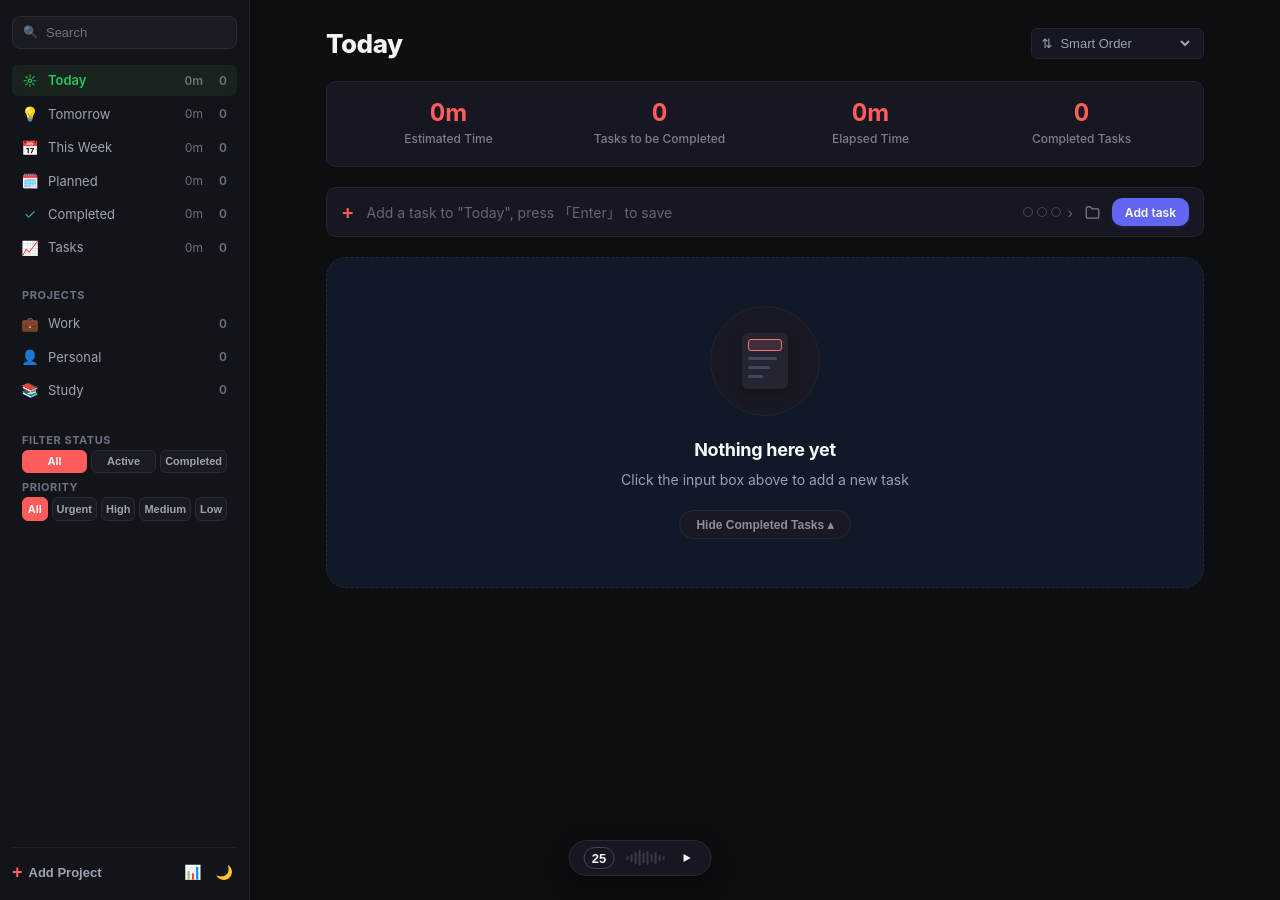
Test: App component integration › saves edited task title
The image size is (1280, 900).
In the field named "title": (689, 212) left=366, top=204, right=1012, bottom=221, type "Original title"
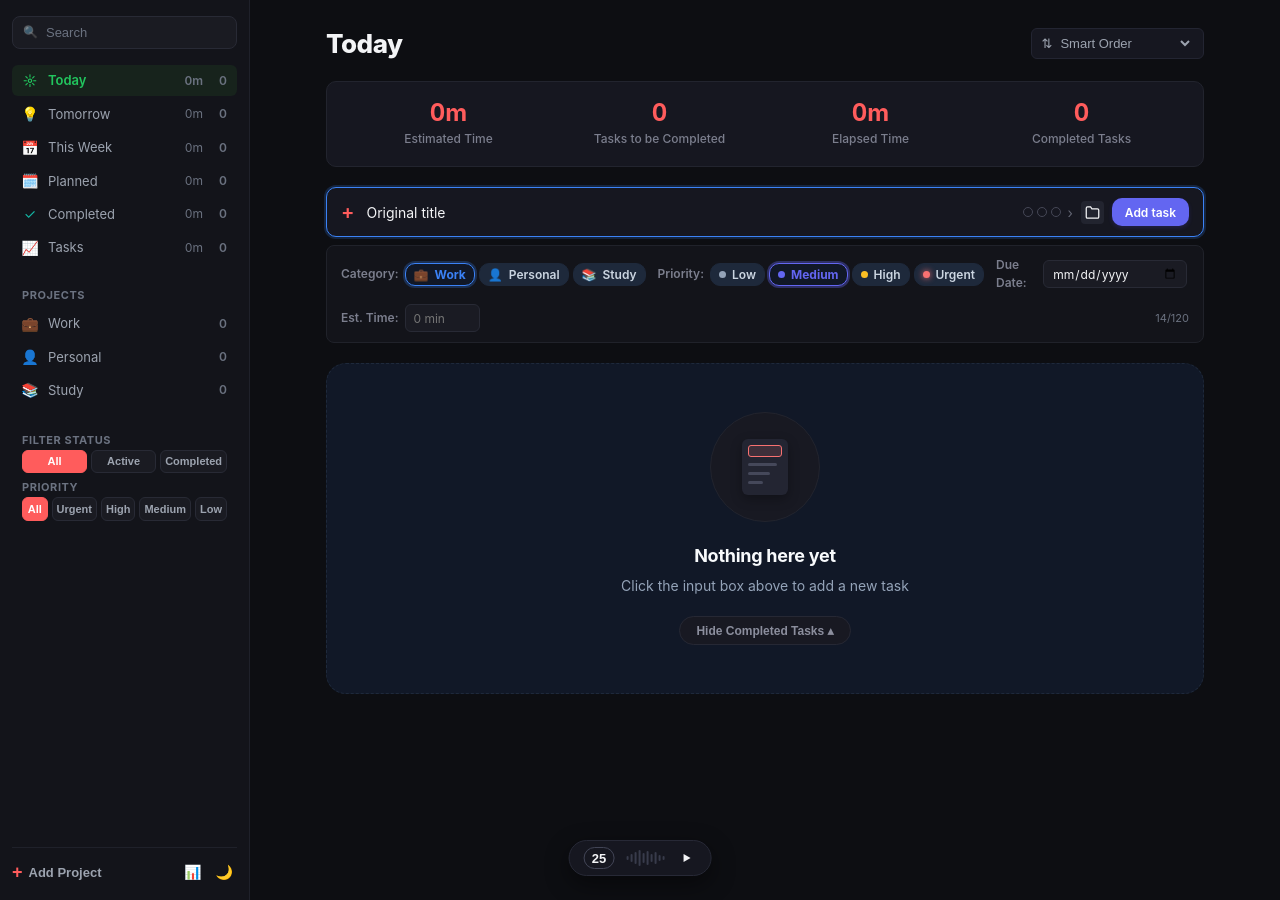
Click the button "Add task": (1150, 212) left=1112, top=198, right=1189, bottom=226
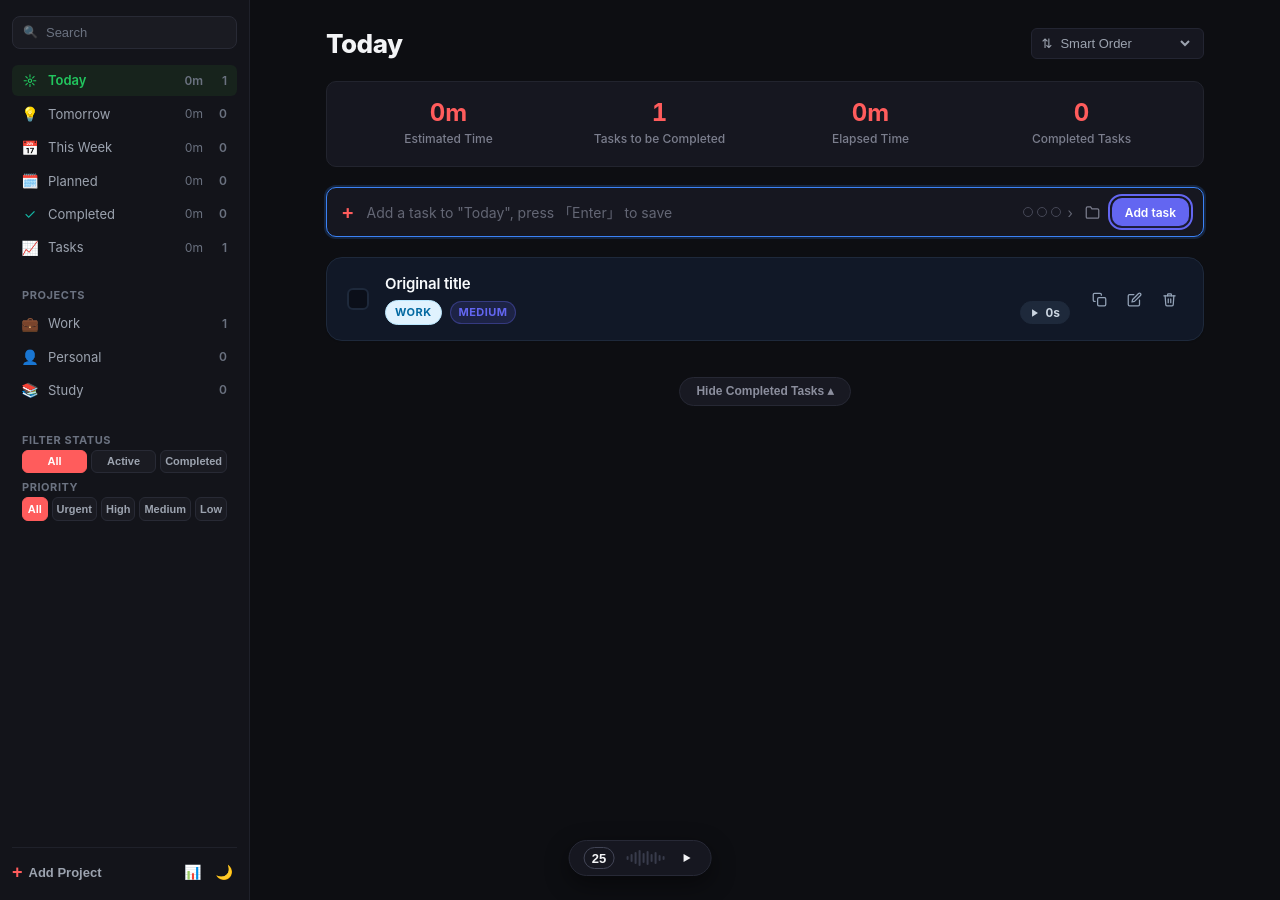
Click the button named "edit task: original title": (1134, 299) left=1119, top=284, right=1150, bottom=315
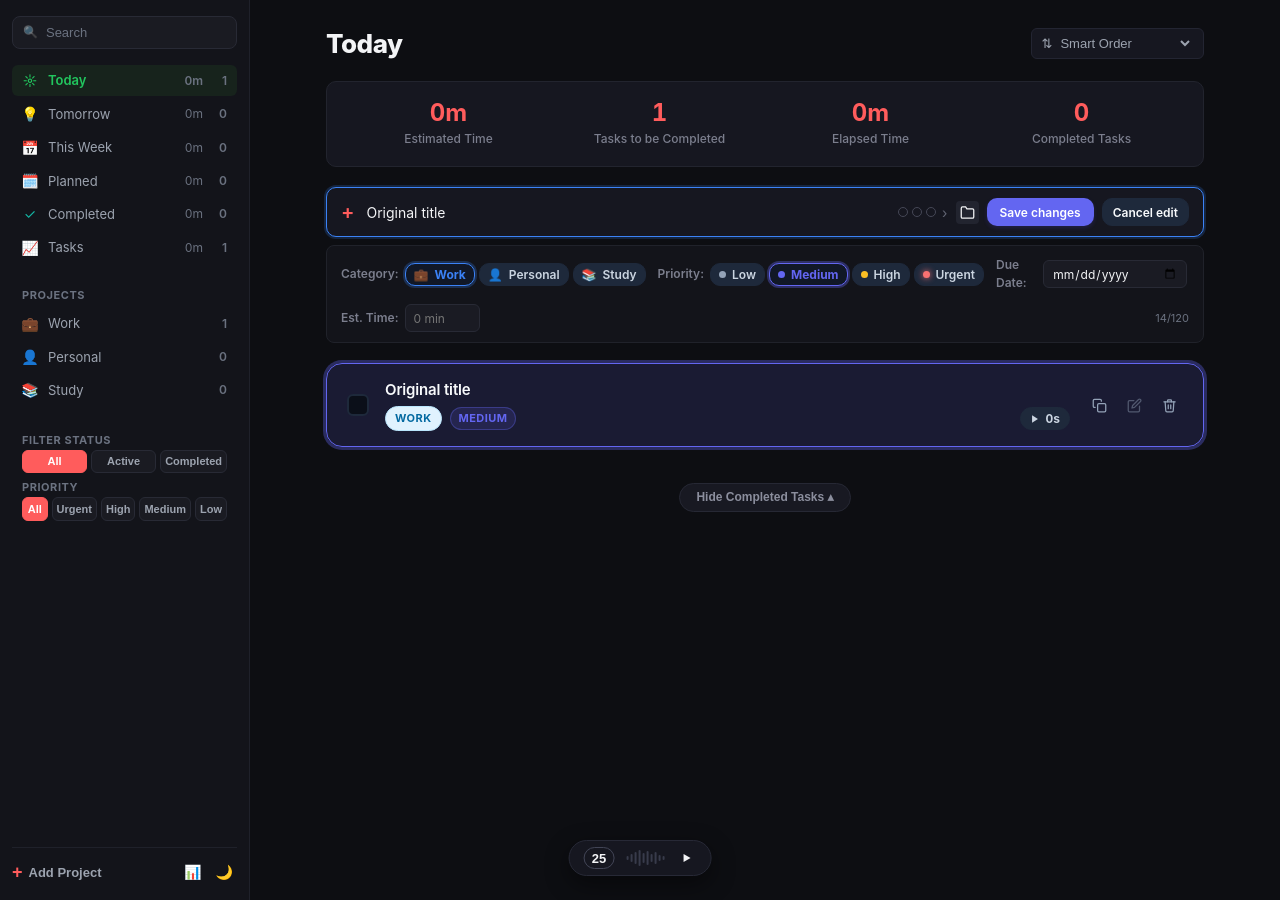
# Use the form input specifically (by its id)
Replace the text in the field named "title" with "Updated title": (626, 212) left=366, top=204, right=886, bottom=221
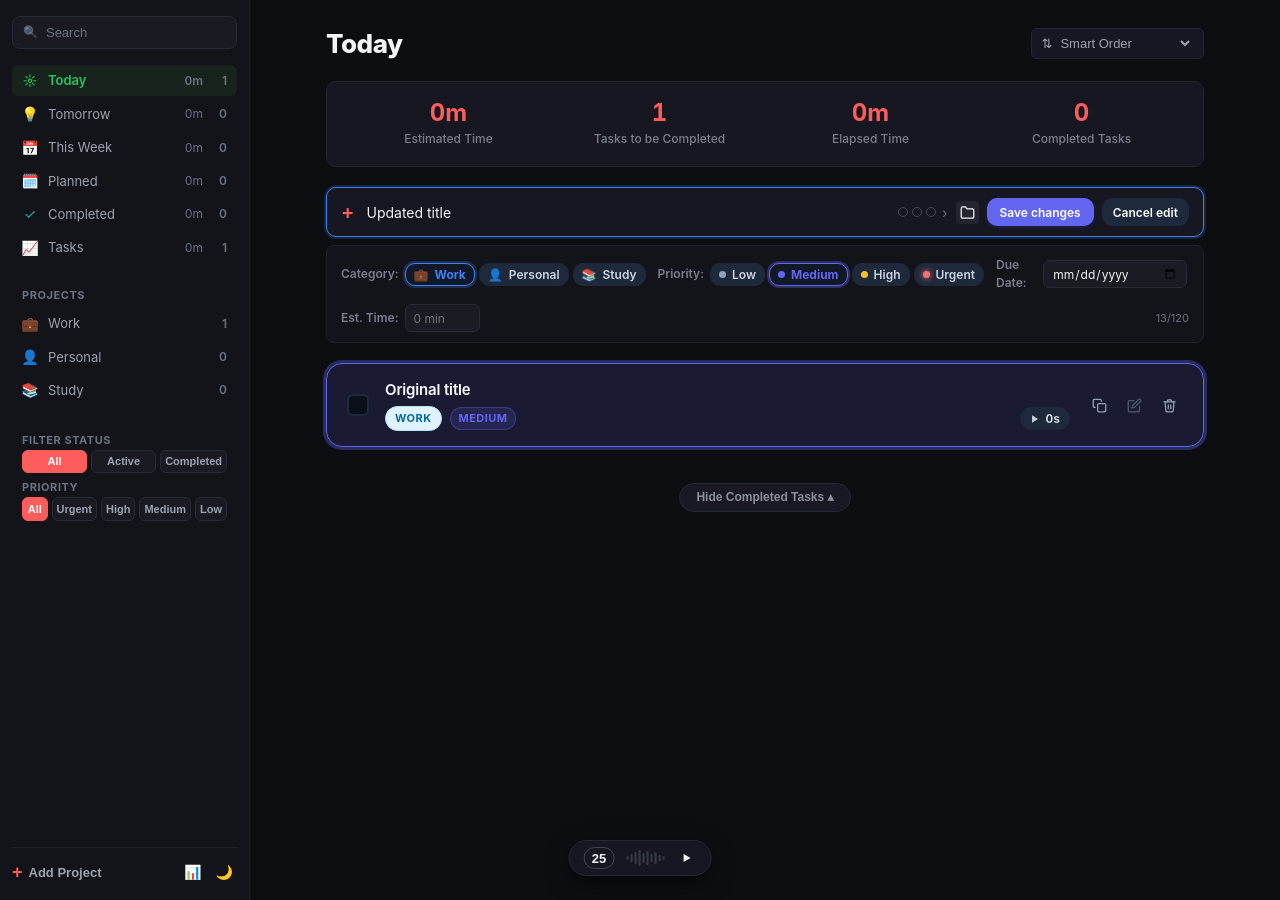
Click the button "Save changes": (1040, 212) left=986, top=198, right=1094, bottom=226
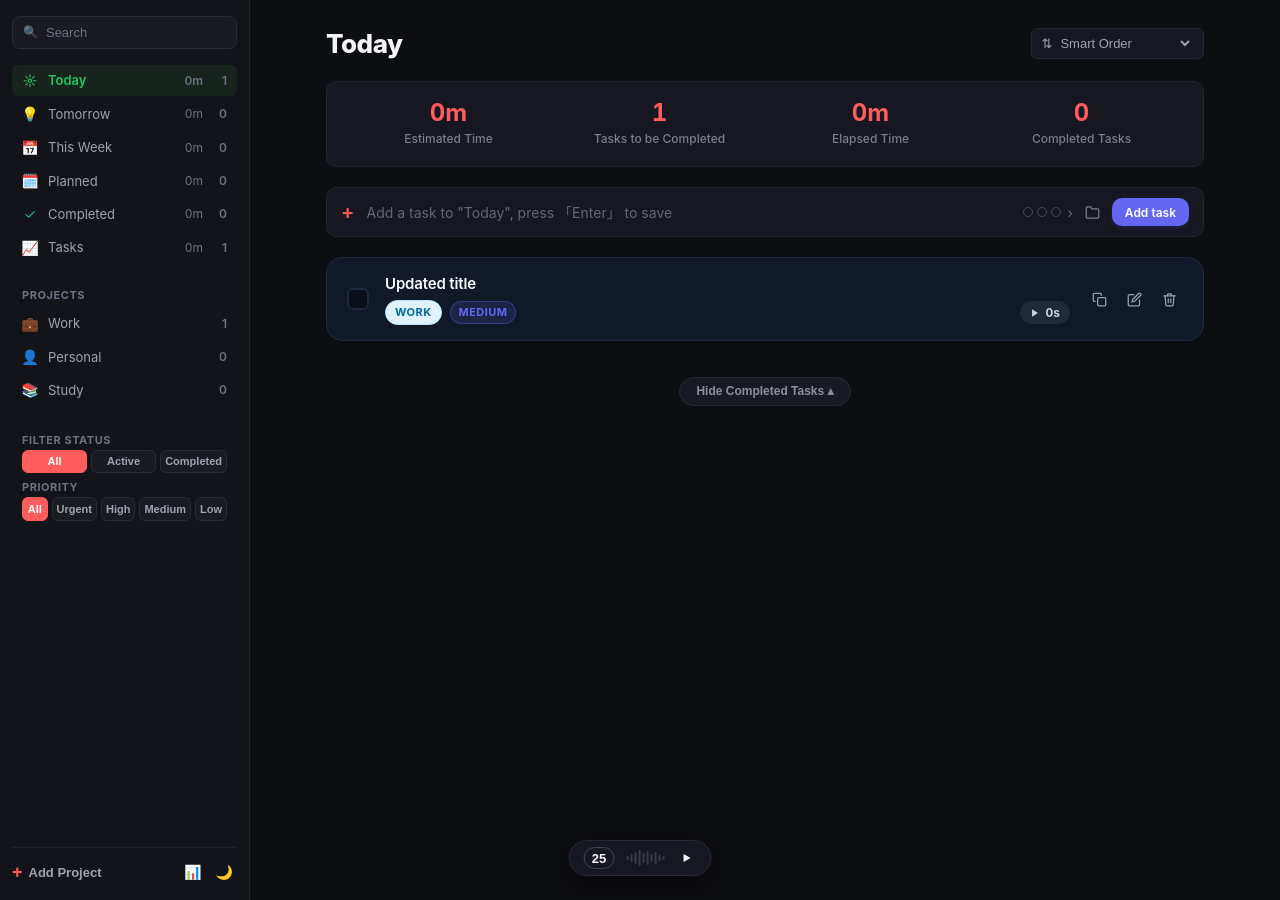
Expected: the text "Updated title" is shown, left=385, top=274, right=476, bottom=293
Expected: the text "Original title" is gone
